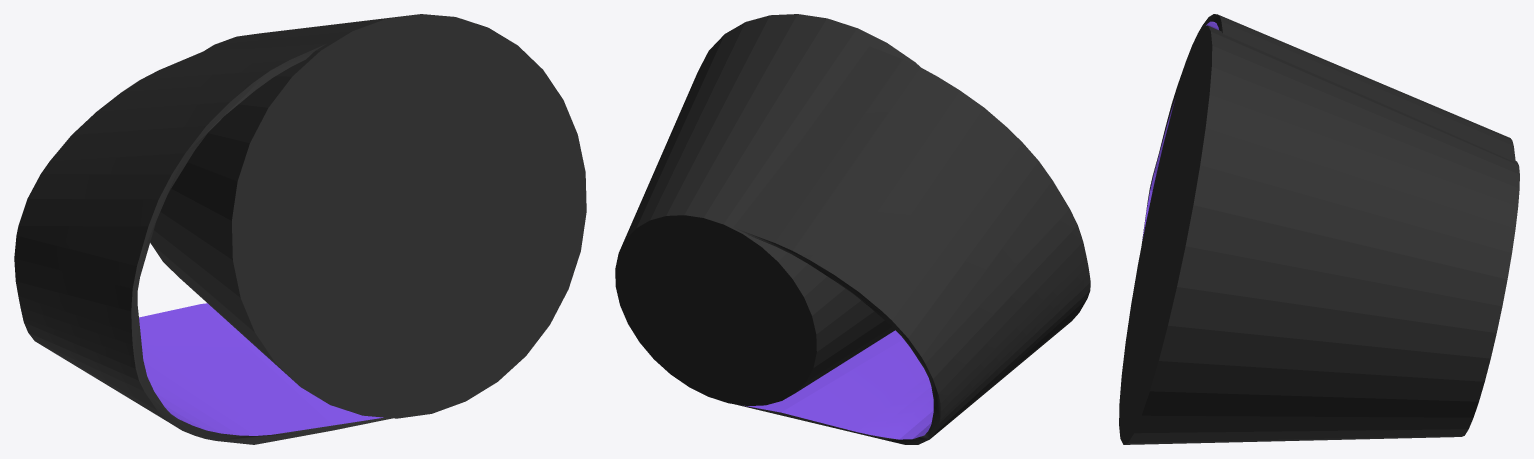
The model's file is SpeakerRight.glb.
3 renders of one model, left to right at view 1: azimuth 30°, elevation 25°; view 2: azimuth 150°, elevation 25°; view 3: azimuth 270°, elevation 25°, orthographic. The views are drawn at different scales.
Parts seen in each view (by area): view 1: Speaker Right; view 2: Speaker Right; view 3: Speaker Right.
Part boxes in pixels (x1,y1,x2,y2): Speaker Right: (14,14,586,444); Speaker Right: (615,14,1090,444); Speaker Right: (1119,14,1519,444).
Size of the model in its own units: 0.1375 by 0.1043 by 0.0999.
